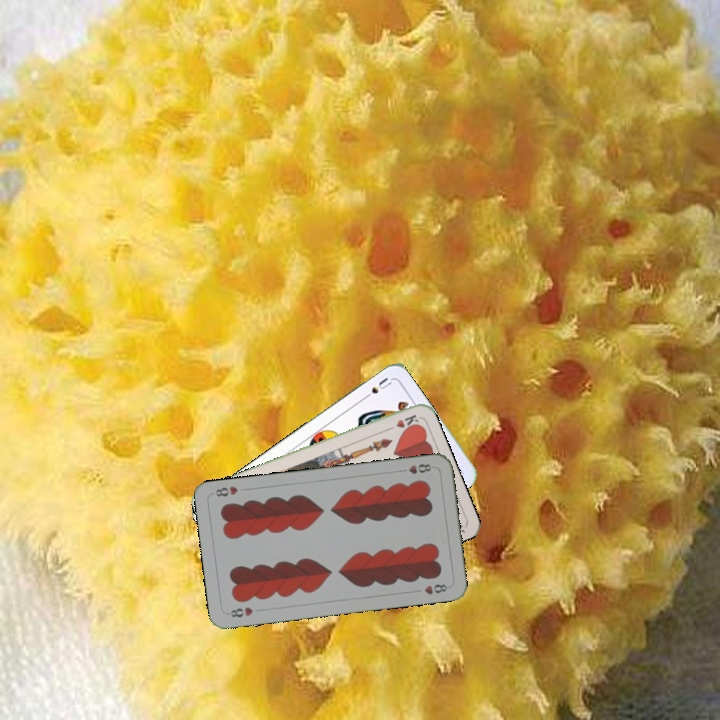H8: (396, 460, 434, 477), (223, 603, 256, 620)
HK: (381, 410, 421, 434)
SU: (358, 373, 394, 403)
